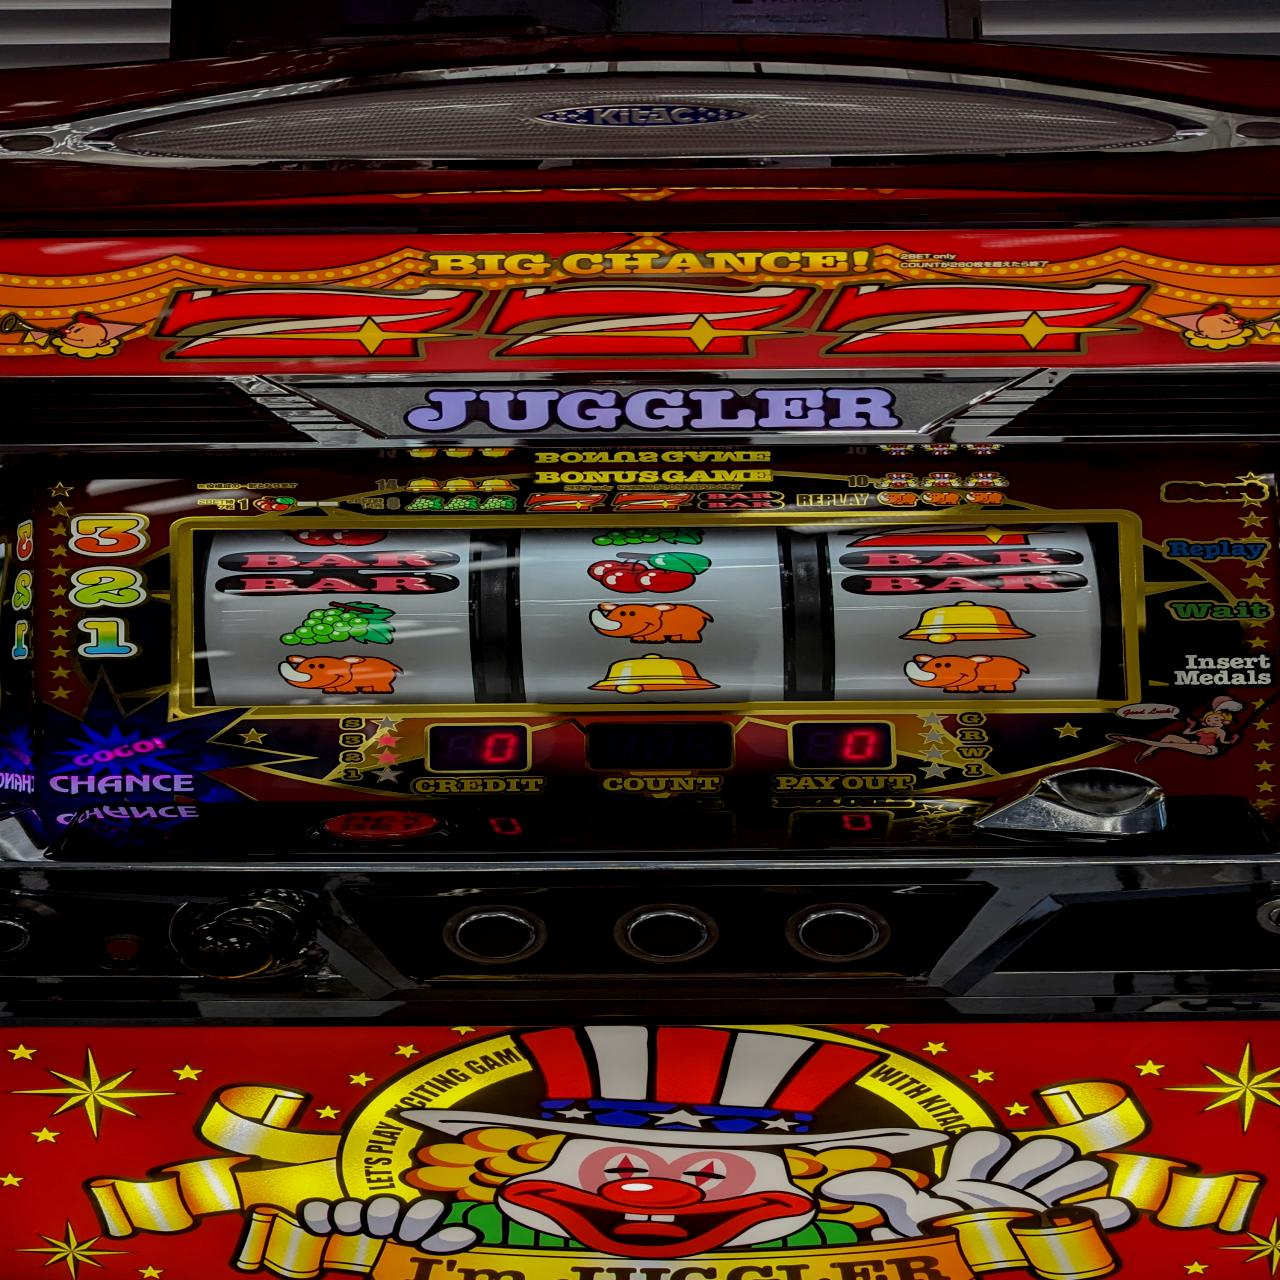8: (579, 598, 720, 647), (268, 652, 413, 699), (900, 652, 1036, 696)
Display: (178, 522, 1135, 703)
bar: (210, 547, 465, 598), (837, 546, 1091, 595)
bell: (897, 599, 1041, 647), (583, 652, 727, 696)
cherry: (580, 547, 715, 595)
grape: (272, 599, 401, 649)
